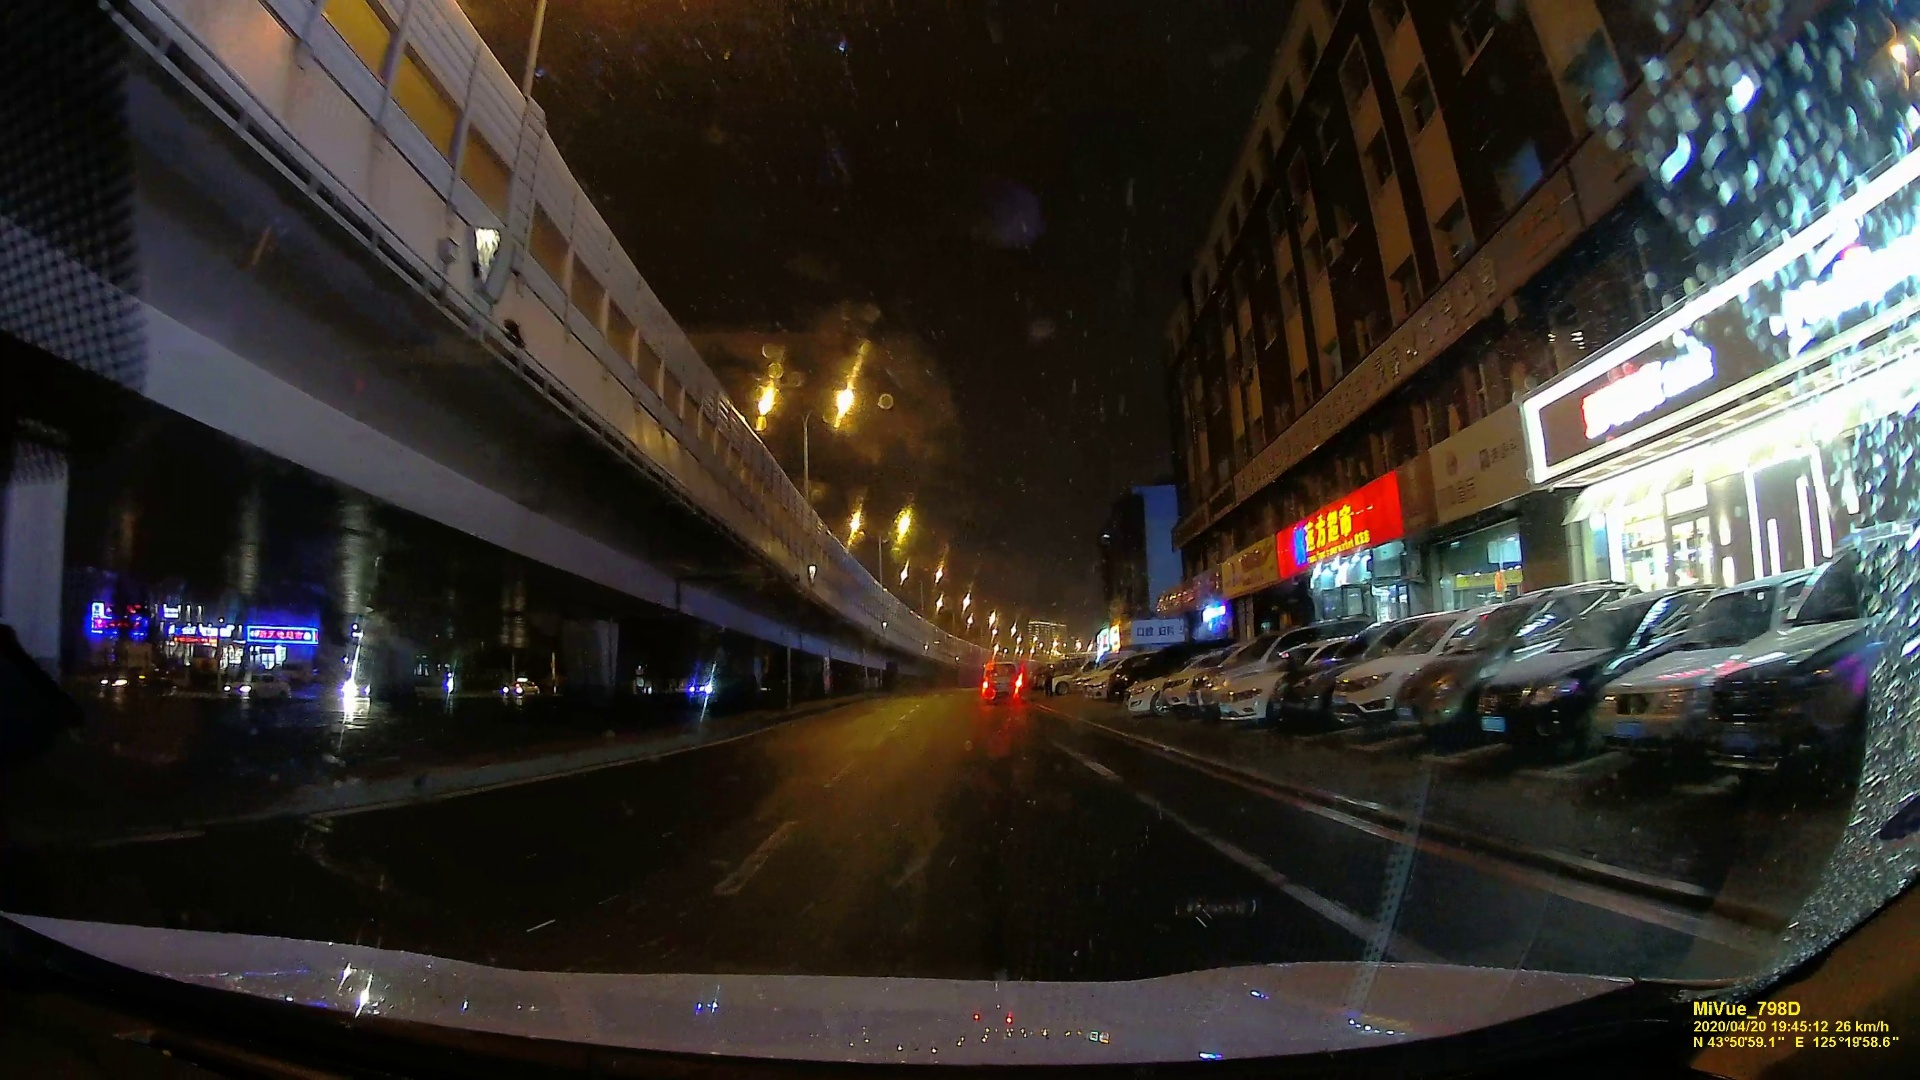minibus: (978, 661, 1021, 698)
vehicle: (218, 671, 287, 700), (502, 679, 538, 695)
